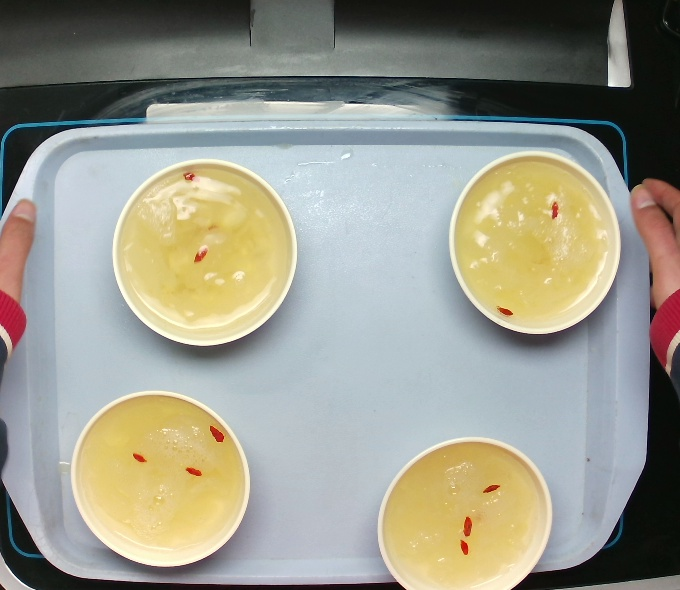wcq-YinErLianZiGeng: (61, 378, 252, 567), (108, 156, 299, 345), (438, 152, 629, 341), (374, 434, 555, 590)
